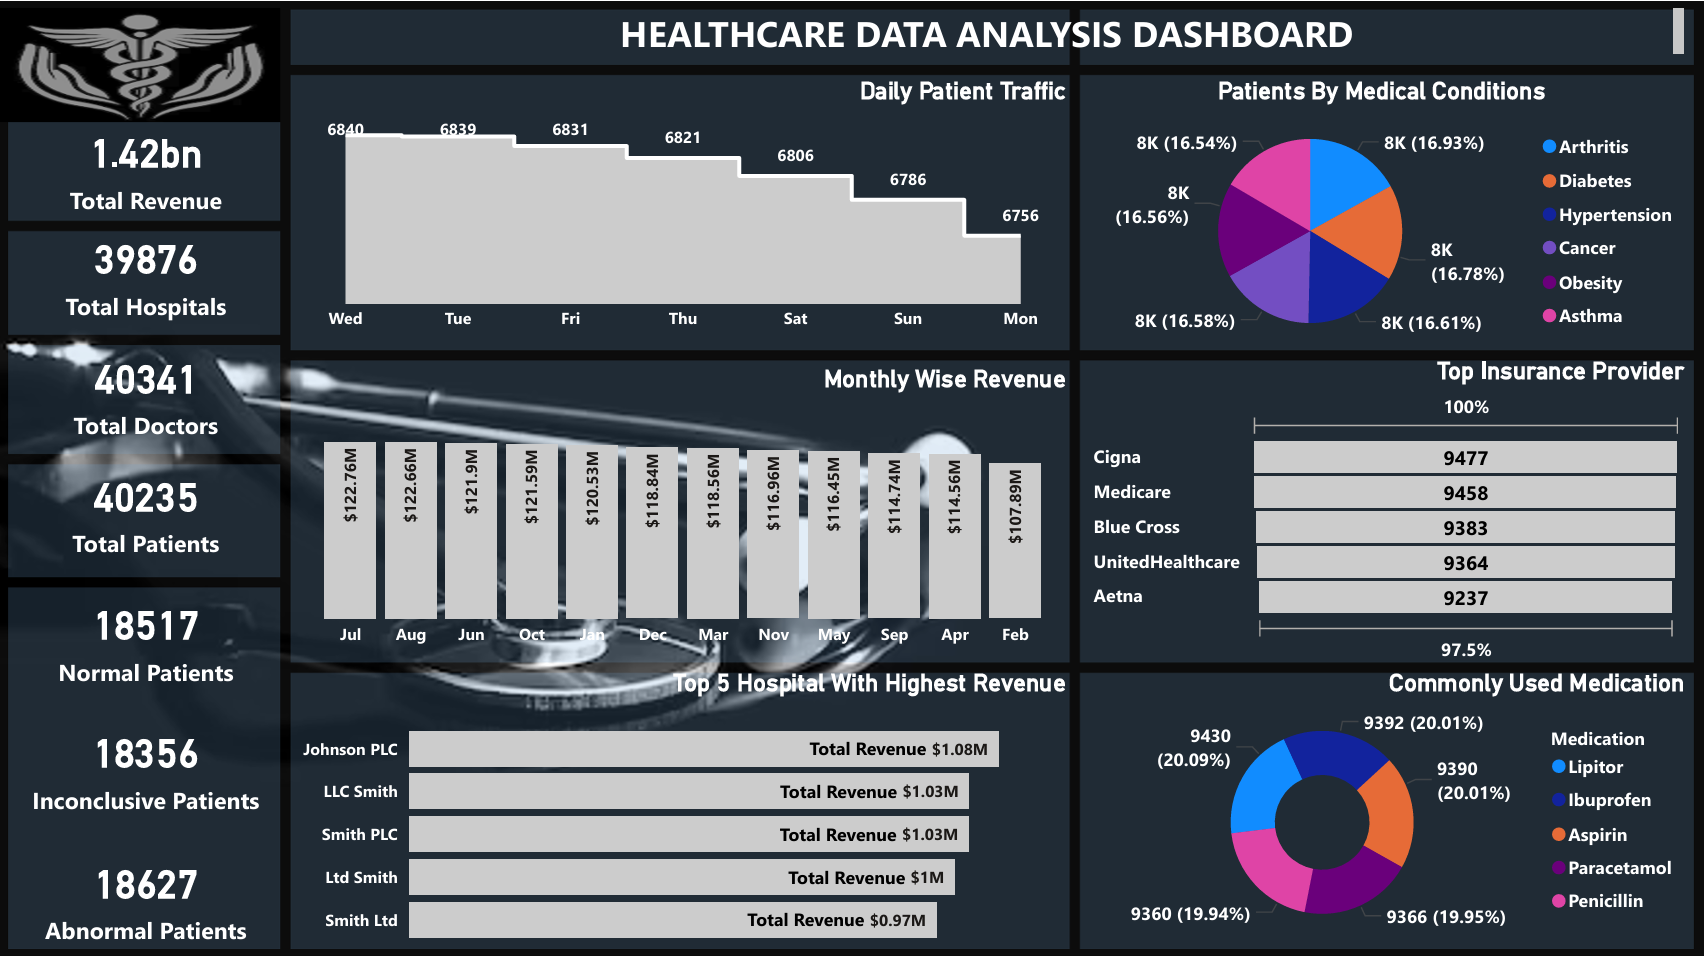

This screenshot's page, from the dashboard's own definition file:
{"tool":"powerbi","page":{"name":"healthcare_analysis_dashboard","canvas":[1280,720],"ordinal":0},"visuals":[{"type":"textbox","box":[221.8,0,1048,45.3],"z":0},{"type":"card","fields":{"Values":["healthcare_dataset.Total Revenue"]},"box":[0,85.9,221.8,75],"z":1000},{"type":"card","fields":{"Values":["healthcare_dataset.Total Patients"]},"box":[0,334.2,221.8,93.7],"z":2000},{"type":"card","fields":{"Values":["healthcare_dataset.Normal Patients"]},"box":[0,440.4,221.8,75],"z":3000},{"type":"card","fields":{"Values":["healthcare_dataset.Inconclusive Patients"]},"box":[0,535.7,221.8,75],"z":4000},{"type":"card","fields":{"Values":["healthcare_dataset.Abnormal Patients"]},"box":[0,634.1,221.8,75],"z":5000},{"type":"card","fields":{"Values":["healthcare_dataset.Total Hospitals"]},"box":[0,160.9,221.8,84.3],"z":7000},{"type":"card","fields":{"Values":["healthcare_dataset.Total Doctors"]},"box":[0,254.6,221.8,75],"z":8000},{"type":"areaChart","title":"Daily Patient Traffic","fields":{"Category":["healthcare_dataset.Day of Admission"],"Y":["healthcare_dataset.Total Patients"]},"box":[221.8,56.2,584.1,198.4],"z":8001},{"type":"columnChart","title":"Monthly Wise Revenue","fields":{"Category":["healthcare_dataset.Month of Admission"],"Y":["healthcare_dataset.Total Revenue"]},"box":[221.8,271.8,584.1,220.2],"z":8002},{"type":"clusteredBarChart","title":"Top 5 Hospital With Highest Revenue","fields":{"Category":["healthcare_dataset.Hospital"],"Y":["healthcare_dataset.Total Revenue"]},"box":[221.8,499.8,584.1,220.2],"z":8003},{"type":"pieChart","title":"Patients By Medical Conditions","fields":{"Category":["healthcare_dataset.Medical Condition"],"Y":["healthcare_dataset.Total Patients"]},"box":[805.9,56.2,463.9,209.3],"z":8004},{"type":"funnel","title":"Top Insurance Provider","fields":{"Category":["healthcare_dataset.Insurance Provider"],"Y":["healthcare_dataset.Total Patients"]},"box":[816.8,265.5,452.9,234.3],"z":8005},{"type":"donutChart","title":"Commonly Used Medication","fields":{"Y":["healthcare_dataset.Total Patients"],"Category":["healthcare_dataset.Medication"]},"box":[816.8,499.8,452.9,209.3],"z":8006}]}

Visuals, with their boxes in screenshot pixels (x1, y1, x2, y2), scaled from the page's 1280x720 canvas onto the 1704x956 screenshot:
textbox: [295,0,1690,60]
card - healthcare_dataset.Total Revenue: [0,114,295,214]
card - healthcare_dataset.Total Patients: [0,444,295,568]
card - healthcare_dataset.Normal Patients: [0,585,295,684]
card - healthcare_dataset.Inconclusive Patients: [0,711,295,811]
card - healthcare_dataset.Abnormal Patients: [0,842,295,942]
card - healthcare_dataset.Total Hospitals: [0,214,295,326]
card - healthcare_dataset.Total Doctors: [0,338,295,438]
"Daily Patient Traffic" areaChart: [295,75,1073,338]
"Monthly Wise Revenue" columnChart: [295,361,1073,653]
"Top 5 Hospital With Highest Revenue" clusteredBarChart: [295,664,1073,955]
"Patients By Medical Conditions" pieChart: [1073,75,1690,353]
"Top Insurance Provider" funnel: [1087,353,1690,664]
"Commonly Used Medication" donutChart: [1087,664,1690,942]
